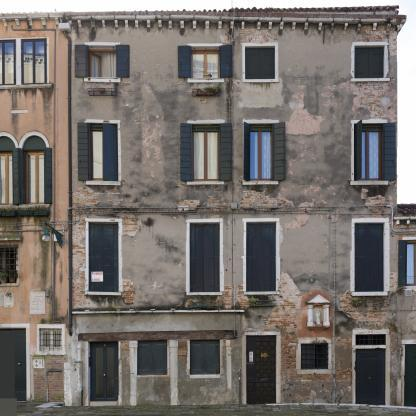Blind: (89, 222, 119, 292), (246, 222, 276, 291), (190, 223, 220, 292), (355, 223, 385, 292), (190, 340, 220, 374), (245, 46, 275, 79), (138, 341, 167, 375), (102, 123, 118, 181), (355, 46, 384, 78), (77, 122, 89, 181), (220, 123, 232, 182), (274, 122, 286, 181), (384, 123, 396, 181), (354, 120, 362, 181), (117, 44, 130, 78), (74, 44, 87, 77), (398, 239, 407, 286), (244, 121, 251, 181), (178, 46, 191, 78), (220, 45, 232, 78)
Building Outline: (66, 5, 416, 407)
Deco: (305, 292, 331, 333)
Door: (246, 336, 276, 404), (90, 342, 119, 401), (356, 349, 385, 405)
Facade: (73, 21, 398, 405)
Floor: (72, 206, 397, 318), (72, 105, 397, 206)
Floor Slab: (72, 198, 397, 206), (72, 310, 397, 317), (72, 97, 397, 104)
Ground Floor: (72, 318, 397, 406)
Molding: (77, 20, 391, 31)
Sill: (83, 77, 122, 83), (84, 291, 122, 296), (351, 291, 388, 296), (350, 181, 390, 185), (186, 181, 225, 185), (185, 292, 224, 296), (187, 79, 224, 83), (242, 79, 279, 83), (242, 181, 279, 185), (86, 181, 122, 185), (189, 375, 221, 379), (350, 78, 390, 81), (243, 292, 280, 295)
Top Floor: (72, 21, 397, 105)
Window: (89, 222, 119, 292), (246, 222, 276, 291), (190, 223, 220, 292), (355, 223, 385, 292), (191, 124, 221, 182), (354, 124, 384, 181), (89, 123, 118, 181), (246, 123, 274, 181), (190, 46, 221, 79), (190, 340, 220, 374), (245, 46, 275, 79), (87, 45, 117, 78), (138, 341, 167, 375), (355, 46, 384, 78), (301, 344, 328, 369), (180, 123, 191, 182), (405, 239, 416, 286), (355, 335, 386, 346)
